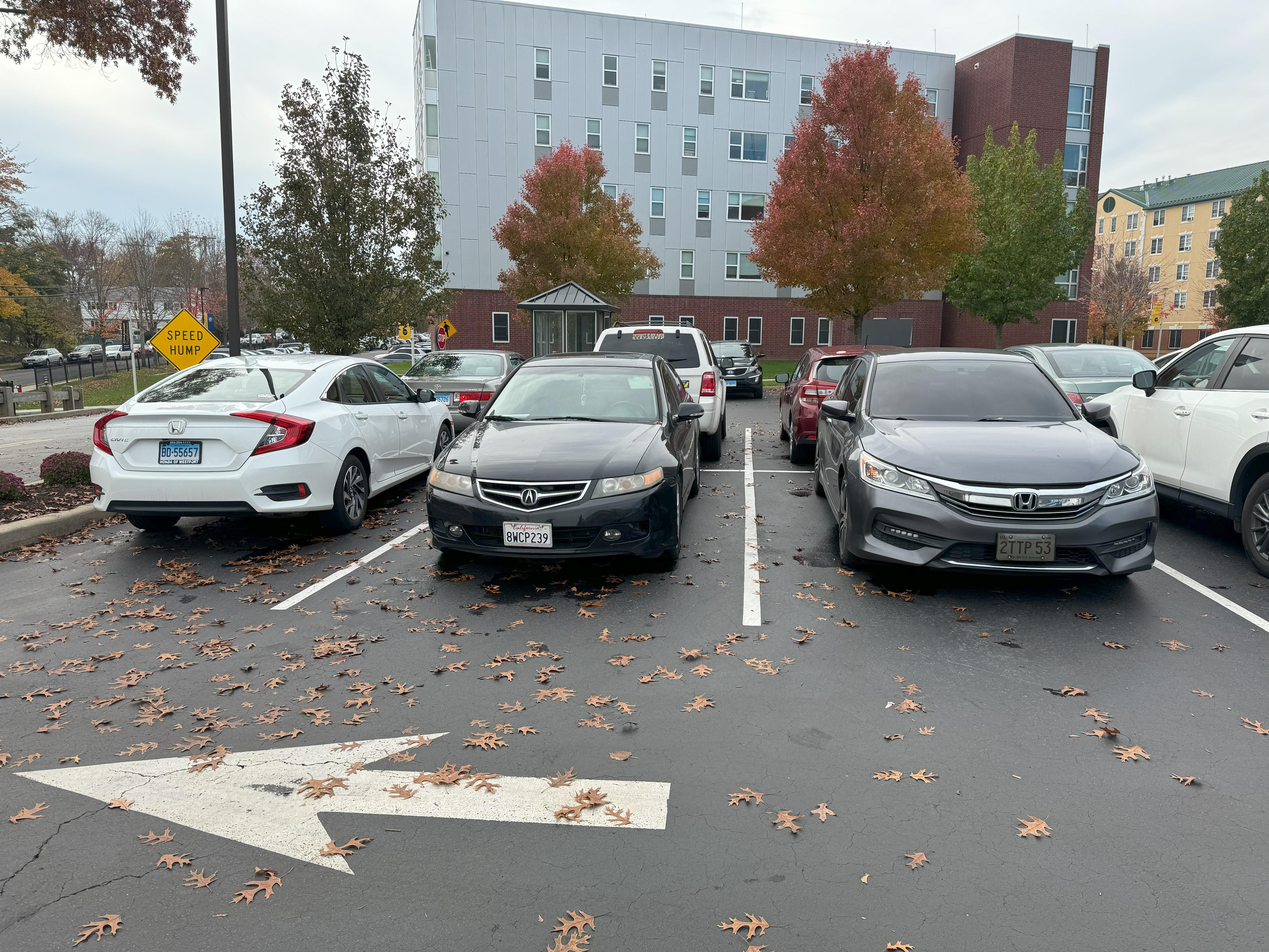occupied: (782, 327, 1157, 634), (438, 345, 713, 643), (80, 327, 425, 549), (1187, 318, 1267, 595)
